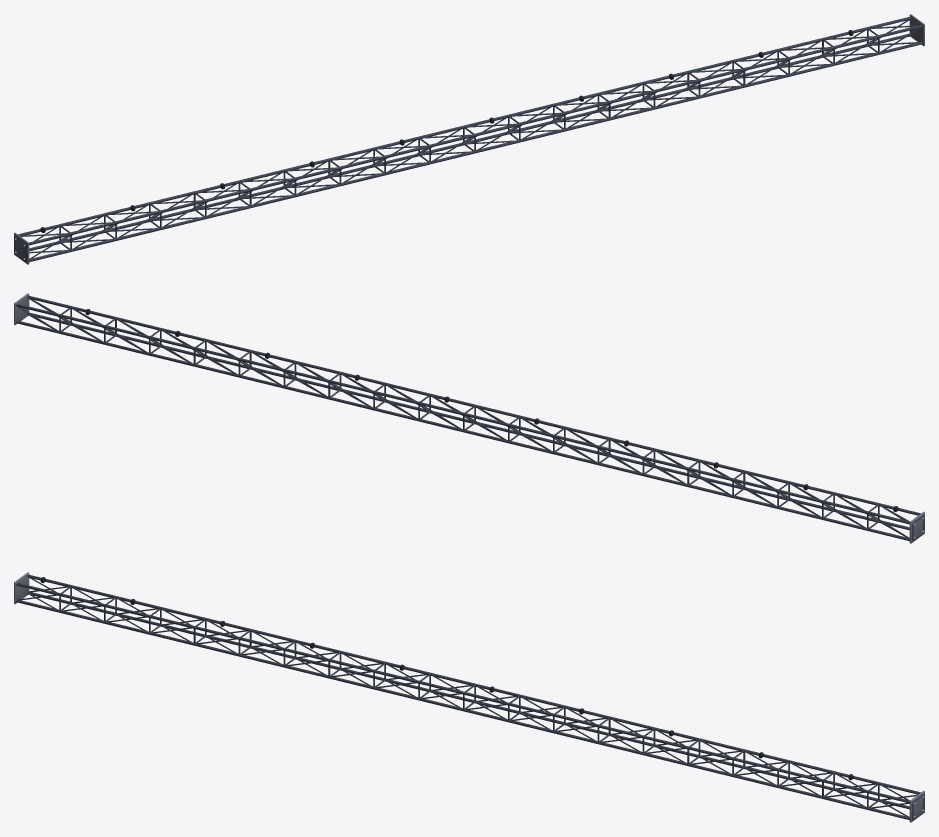
File: SM_Stage4_TrussRun.fbx
3 views of the same model, one above another, from view 1: azimuth 30°, elevation 25°; view 2: azimuth 150°, elevation 25°; view 3: azimuth 330°, elevation 25° (orthographic).
Parts seen in each view (by area): view 1: SM_Stage4_TrussRun; view 2: SM_Stage4_TrussRun; view 3: SM_Stage4_TrussRun.
Boxes of the visible parts, left/top/right/bottom form: SM_Stage4_TrussRun: left=14, top=14, right=924, bottom=264; SM_Stage4_TrussRun: left=14, top=293, right=924, bottom=543; SM_Stage4_TrussRun: left=14, top=572, right=924, bottom=822.
Bounding box in the file's own units: 2808 × 80.3 × 76.3.
